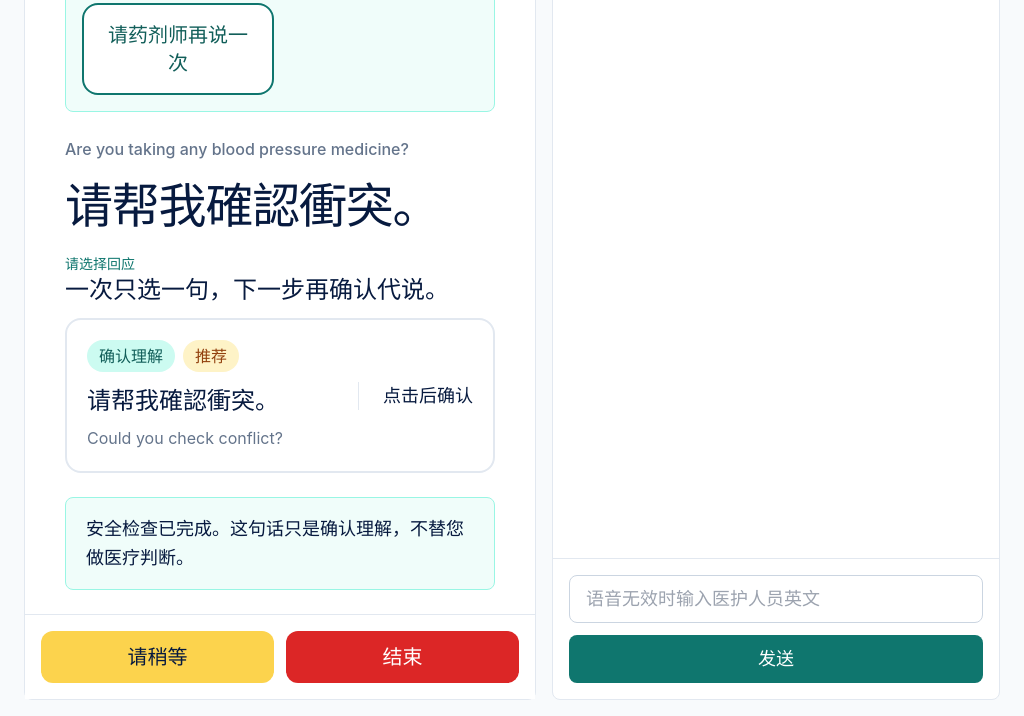
Test: ConversationPage › locks action buttons when confirm is clicked
The width and height of the screenshot is (1024, 716).
(page scrolled)
Click the button "确认理解 推荐 请帮我確認衝突。 Could you check conflict? 点击后确认".
click(280, 396)  # box [65,318,495,473]
(page scrolled)
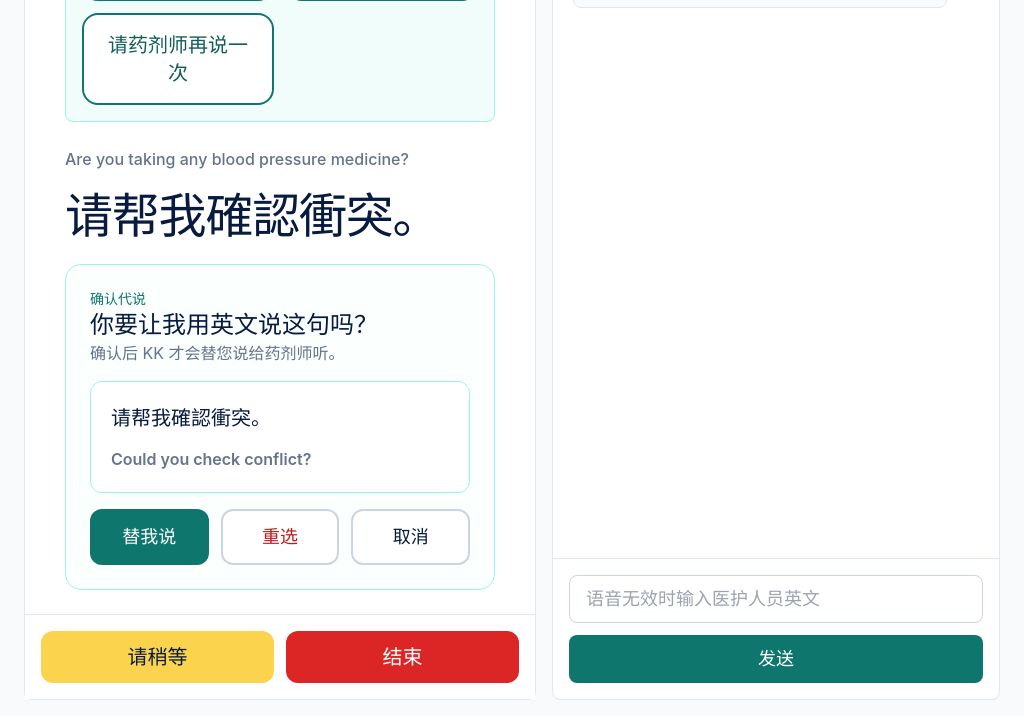
Click confirm button
Click the button "替我说".
click(149, 537)  # box [90,509,209,565]
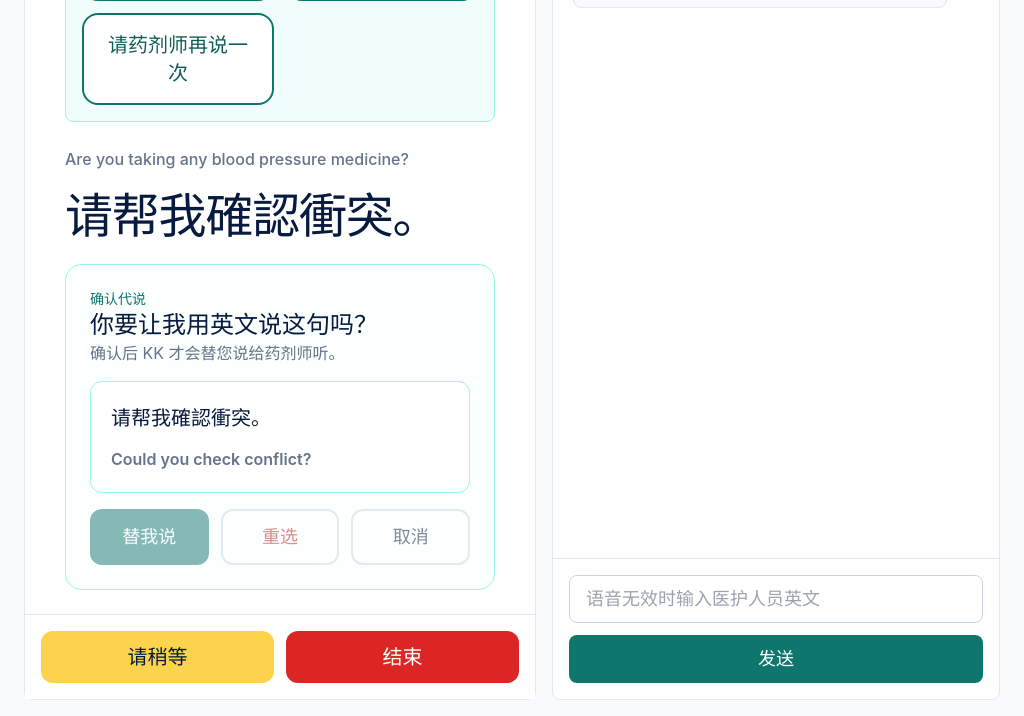
Check: the button "替我说" is disabled, box [90,509,209,565]
Check: the button "重选" is disabled, box [221,509,339,565]
Check: the button "取消" is disabled, box [351,509,470,565]
